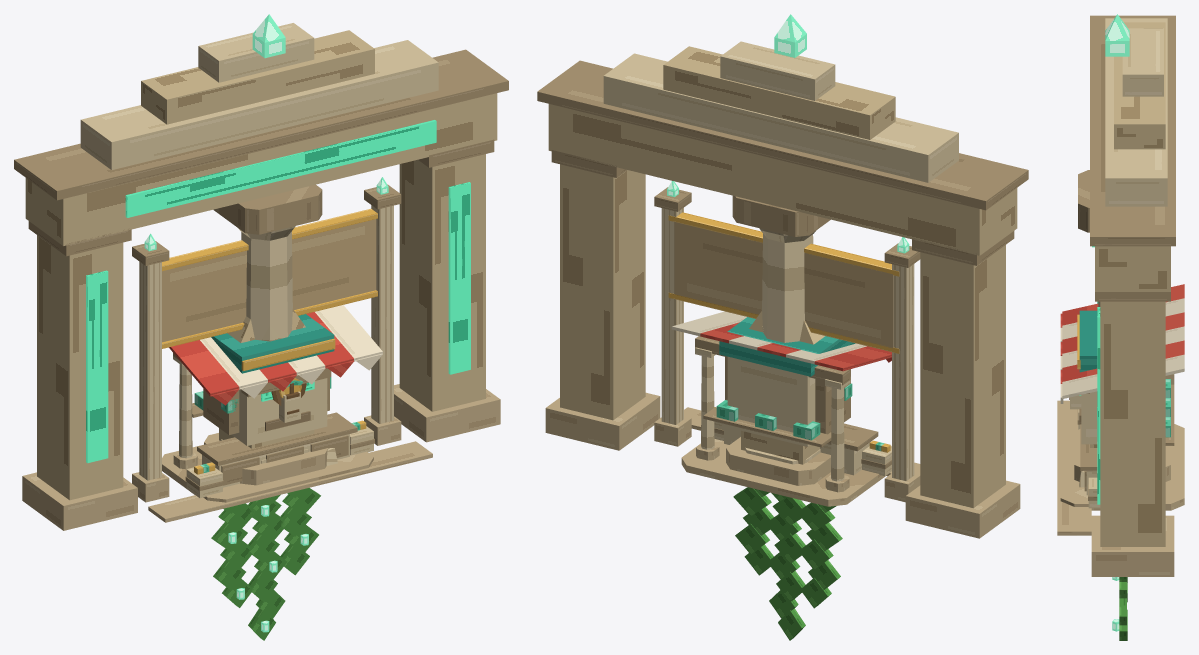
The model's file is ruins-props.glb.
The picture shows the model from 3 angles, left to right: view 1: azimuth 30°, elevation 25°; view 2: azimuth 150°, elevation 25°; view 3: azimuth 270°, elevation 25°; orthographic projection.
Parts seen in each view (by area): view 1: Pillar, Pillar.001, Lintel, Crown, Board, LintelTrim, Crown2, Frieze, Upright, Shaft, PillarGlyph, PillarGlyph.001 (+25 smaller); view 2: Lintel, Pillar, Pillar.001, Crown, Board, LintelTrim, Crown2, Head, Upright, Crown3, Shaft, Upright.001 (+23 smaller); view 3: Pillar.001, LintelTrim, Crown, Crown2, Lintel, PillarFoot.001, Deck, Crown3, Step, Headdress, Cloth.005, CrownGem (+14 smaller).
Boxes of the visible parts, <box> form: Pillar: <box>37,235,123,500</box>; Pillar.001: <box>399,154,485,411</box>; Lintel: <box>25,93,497,245</box>; Crown: <box>80,40,438,169</box>; Board: <box>162,219,376,342</box>; LintelTrim: <box>14,49,508,200</box>; Crown2: <box>141,30,374,124</box>; Frieze: <box>125,120,436,217</box>; Upright: <box>139,262,161,480</box>; Shaft: <box>241,231,292,340</box>; PillarGlyph: <box>86,270,108,463</box>; PillarGlyph.001: <box>448,182,470,374</box>; Lintel: <box>548,104,1017,255</box>; Pillar: <box>920,245,1005,508</box>; Pillar.001: <box>560,164,645,420</box>; Crown: <box>603,53,958,182</box>; Board: <box>674,222,893,348</box>; LintelTrim: <box>537,60,1028,210</box>; Crown2: <box>663,46,895,139</box>; Head: <box>727,356,815,446</box>; Upright: <box>892,264,914,480</box>; Crown3: <box>720,41,835,100</box>; Shaft: <box>762,234,813,342</box>; Upright.001: <box>661,208,683,424</box>; Pillar.001: <box>1100,301,1165,546</box>; LintelTrim: <box>1090,15,1175,246</box>; Crown: <box>1105,18,1167,206</box>; Crown2: <box>1114,22,1165,149</box>; Lintel: <box>1095,246,1170,291</box>; PillarFoot.001: <box>1091,515,1174,576</box>; Deck: <box>1060,422,1184,510</box>; Crown3: <box>1122,28,1163,96</box>; Step: <box>1057,400,1091,535</box>; Headdress: <box>1079,310,1097,372</box>; Cloth.005: <box>1062,354,1184,398</box>; CrownGem: <box>1105,14,1129,56</box>.
Bounding box in the file's own units: 15.2 × 20.14 × 3.7.
Materials: 2 (2 with a texture image).
